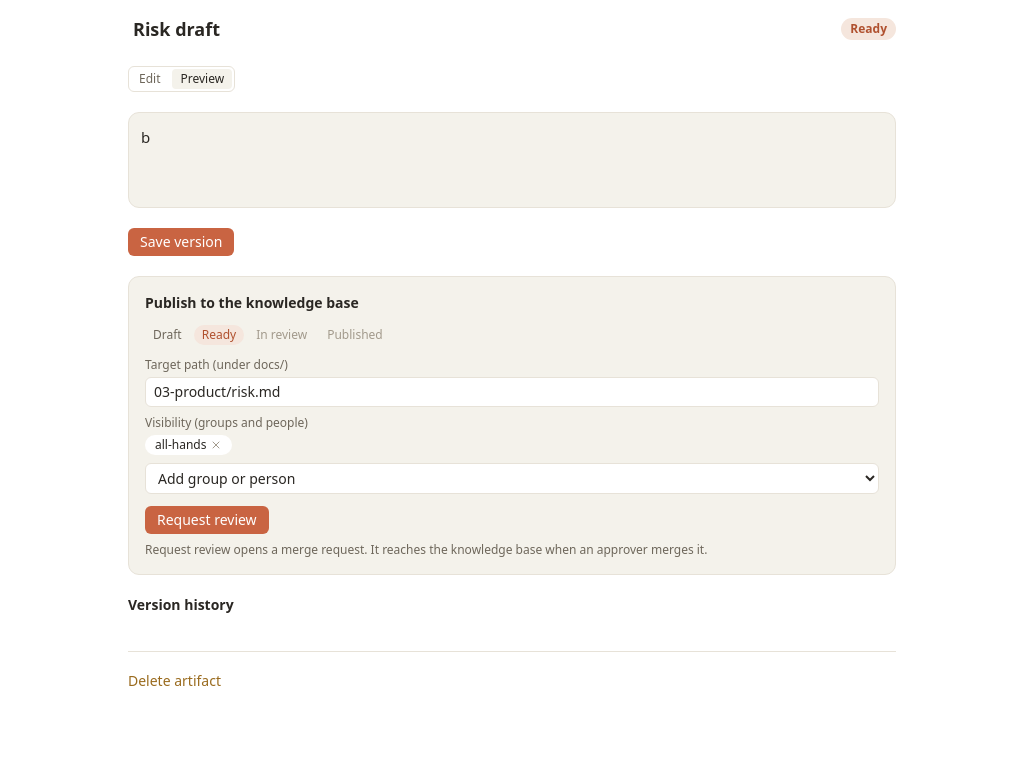
Scenario: ArtifactEditor publishing › renders publish failures through the shared error-code copy
Click the button "Request review".
click(207, 520)  # box [145,506,269,534]
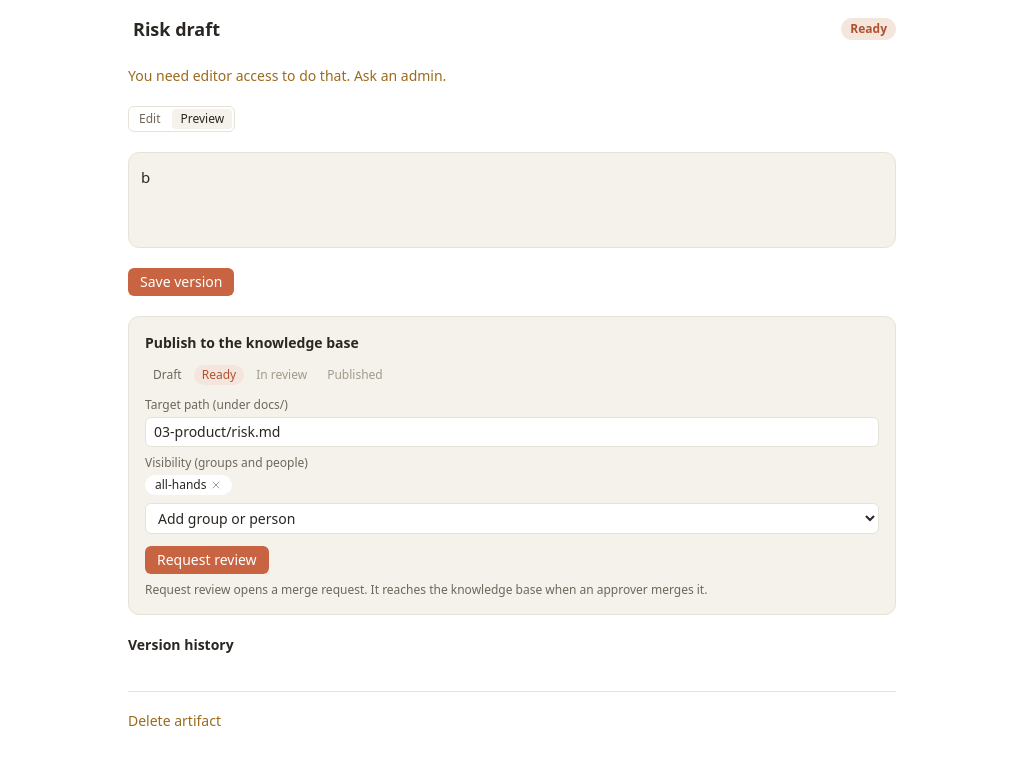
Result: the message reads "You need editor access to do that. Ask an admin." at [128,66,446,85]
